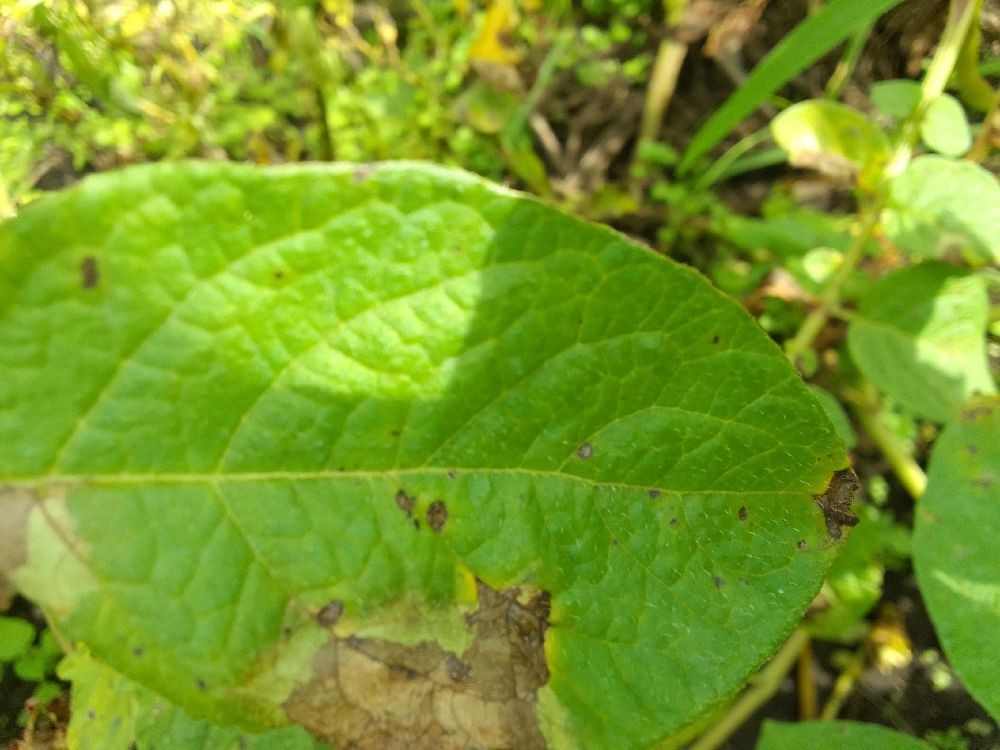late_blight: (438, 0, 839, 268), (249, 544, 591, 750), (676, 533, 1000, 750), (0, 662, 81, 750)
